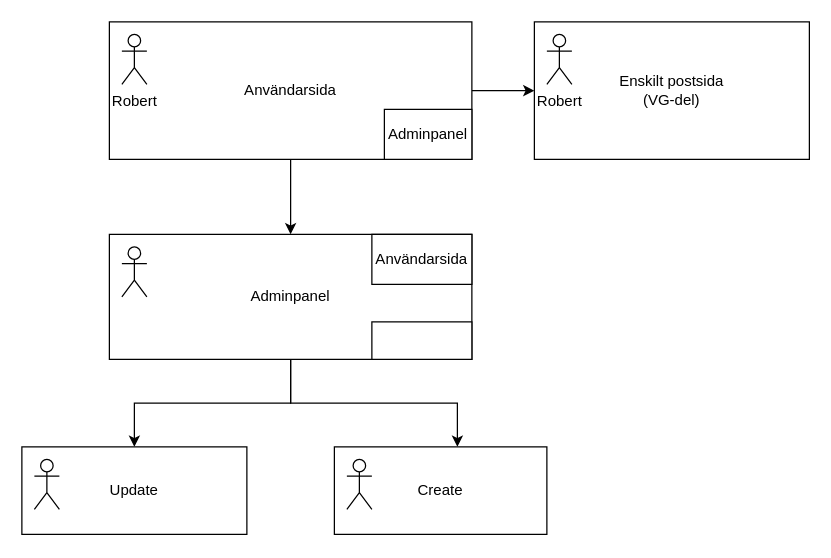
Some shapes in this 831 by 558 pixel diagram are drawn without their labels. The centre of each missing label's shape, as x and y in pixels:
"Abdi" goes at point (134, 271).
"Delete" goes at point (421, 340).
"Juan" goes at point (359, 483).
"Salim" goes at point (46, 483).
